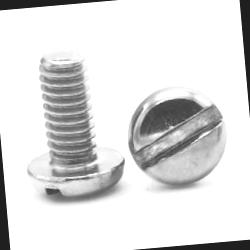slotted: (124, 82, 230, 194)
